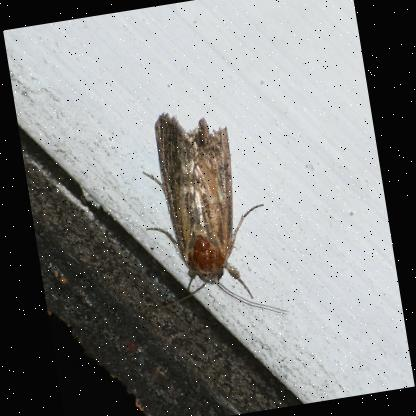Fall Armyworm Moth: (115, 95, 290, 339)
